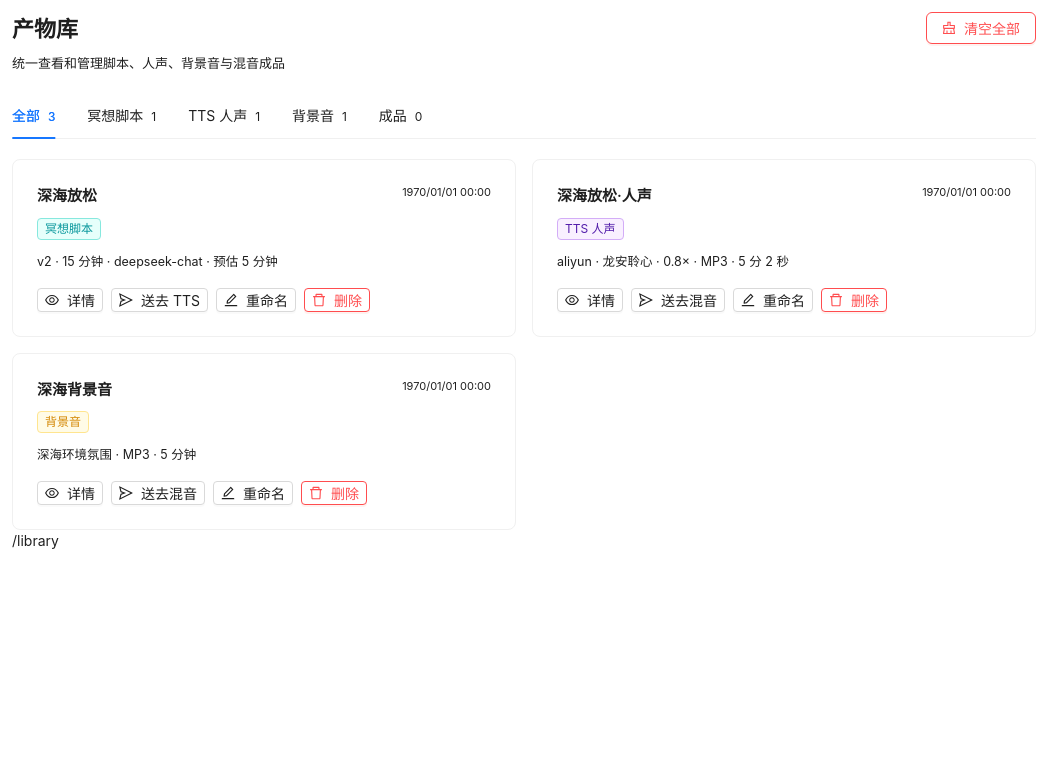
LibraryPage › opens the available mixdown page from the empty mix tab
Check: the text "深海放松" is shown, box [37,184,97,208]
Click the tab "成品 0" at coordinates (401, 116), box [379,105,422,127]
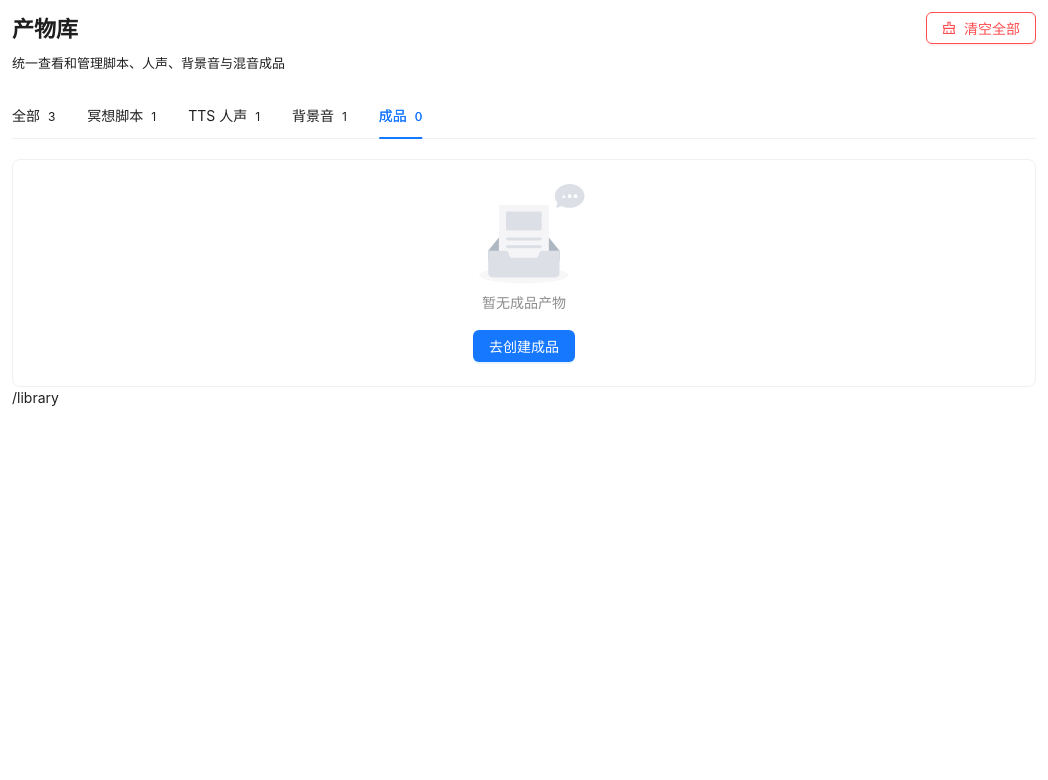
Check: the button "去创建成品" is enabled
Click the button "去创建成品" at coordinates (524, 346), box [473,330,575,362]
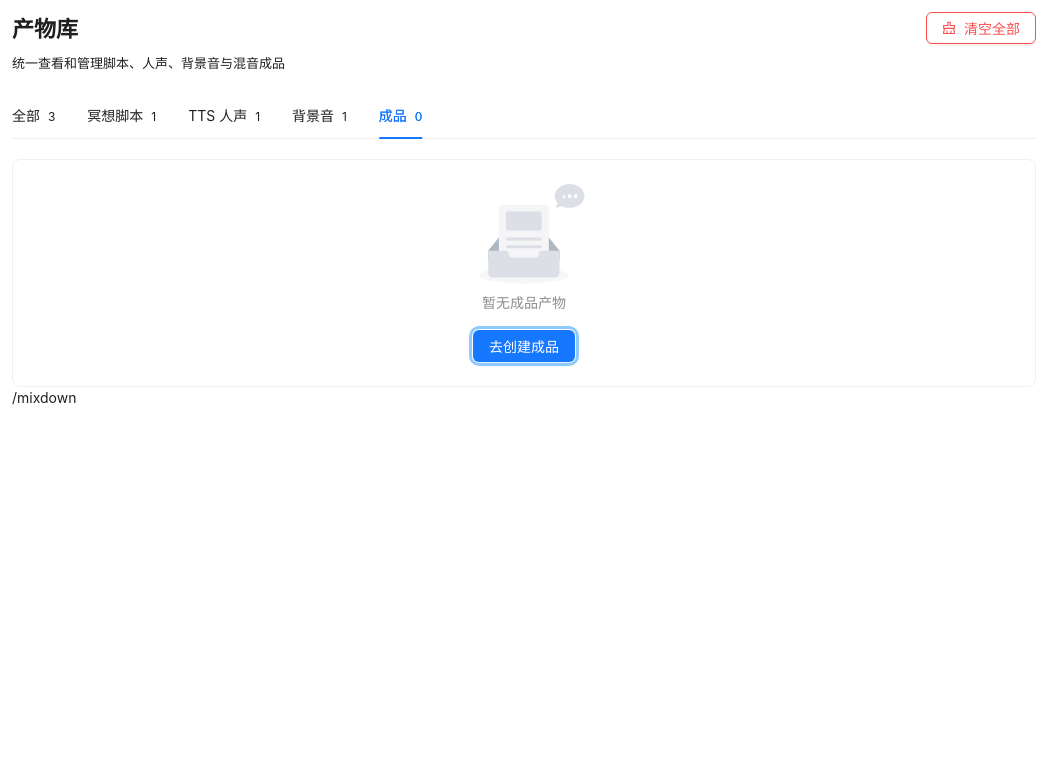
Check: the text with test id "location" reads "/mixdown", box [12,389,76,406]
